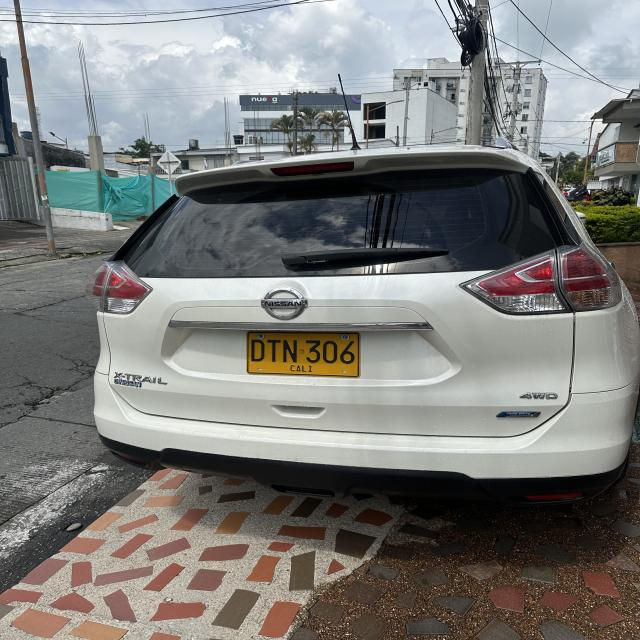number plate: (247, 332, 359, 377)
